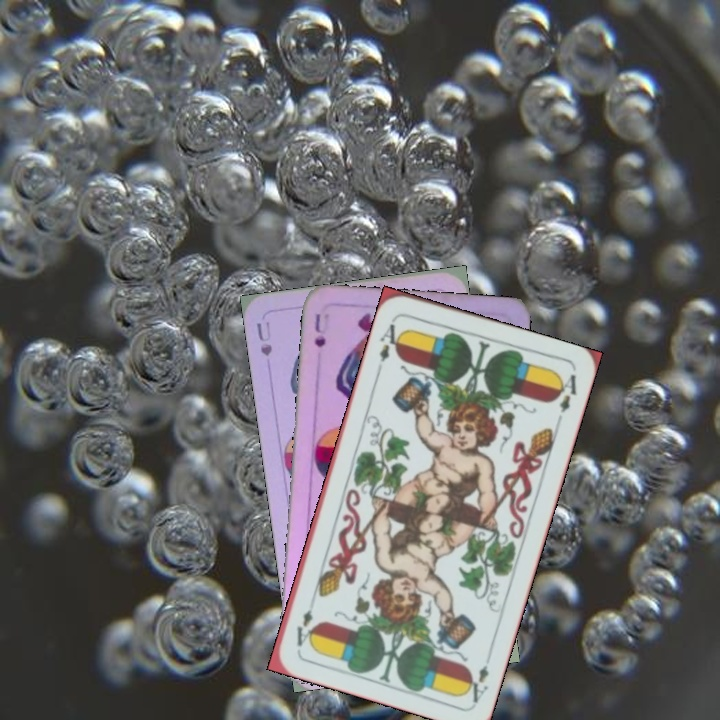EA: (461, 647, 495, 705), (375, 315, 406, 364)
SU: (252, 317, 275, 359), (310, 309, 333, 350)
